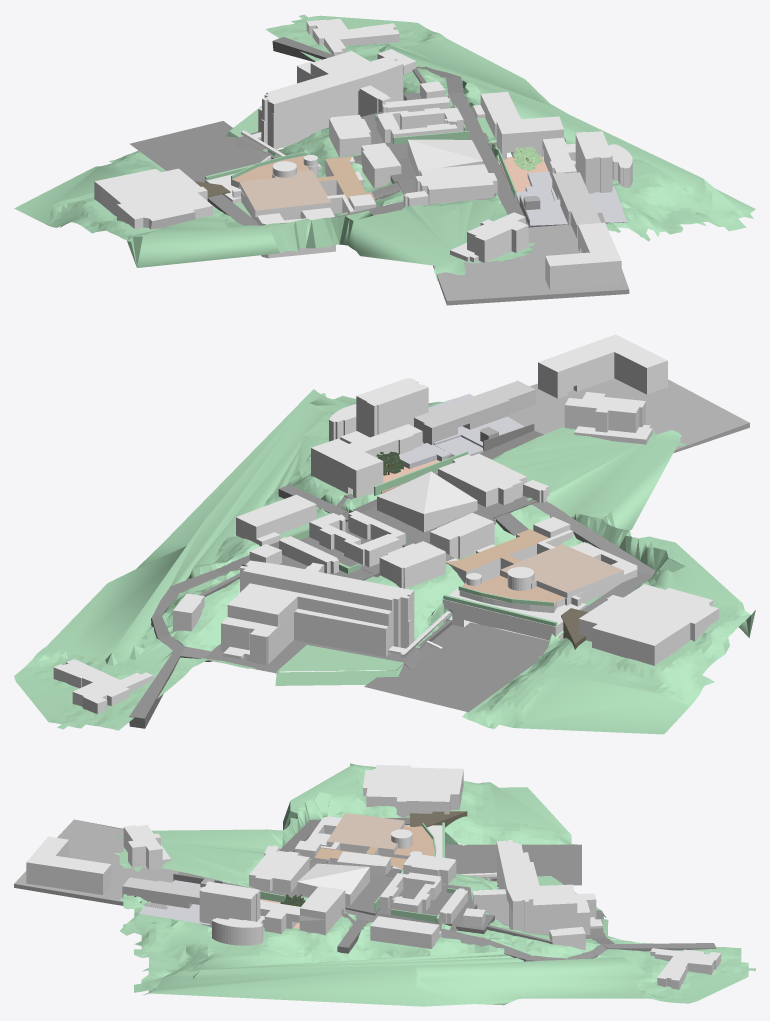
Rendered from wholeMap.glb.
The picture shows the model from 3 angles, top to bottom: view 1: azimuth 30°, elevation 25°; view 2: azimuth 150°, elevation 25°; view 3: azimuth 270°, elevation 25°; orthographic projection. The views are drawn at different scales.
Visible parts, largest first — view 1: object, 10号館, 9号館, 総合体育館, 駐車場, 1号館, 4号館, 5号館, 図書館別館, 6号館, 国際交流会館, 第1体育館 (+9 smaller); view 2: object, 10号館, 9号館, 駐車場, 総合体育館, 1号館, 4号館, 第1体育館, 2号館, 図書館別館, 6号館, 3号館 (+10 smaller); view 3: object, 10号館, 総合体育館, 9号館, 駐車場, 1号館, 4号館, 3号館, 5号館, 第1体育館, 6号館, 国際交流会館 (+10 smaller).
Boxes of the visible parts, box(x1,y1,x2,y2) form: object: box(14, 14, 755, 305); 10号館: box(241, 51, 403, 162); 9号館: box(204, 155, 335, 258); 総合体育館: box(94, 168, 212, 229); 駐車場: box(129, 121, 262, 182); 1号館: box(545, 222, 621, 289); 4号館: box(496, 116, 576, 179); 5号館: box(415, 164, 497, 204); 図書館別館: box(450, 212, 528, 262); 6号館: box(376, 107, 463, 143); 国際交流会館: box(306, 18, 399, 55); 第1体育館: box(407, 139, 483, 175); object: box(14, 378, 755, 734); 10号館: box(221, 560, 451, 664); 9号館: box(442, 542, 637, 640); 駐車場: box(364, 622, 549, 712); 総合体育館: box(578, 584, 718, 665); 1号館: box(538, 334, 667, 398); 4号館: box(311, 424, 422, 498); 第1体育館: box(377, 471, 477, 532); 2号館: box(414, 380, 535, 444); 図書館別館: box(564, 392, 652, 444); 6号館: box(309, 510, 405, 567); 3号館: box(356, 378, 428, 437); object: box(14, 763, 755, 1006); 10号館: box(460, 840, 602, 934); 総合体育館: box(363, 765, 463, 817); 9号館: box(306, 813, 442, 858); 駐車場: box(445, 844, 581, 885); 1号館: box(26, 836, 111, 894); 4号館: box(256, 886, 345, 935); 3号館: box(199, 881, 260, 927); 5号館: box(249, 850, 309, 893); 第1体育館: box(297, 863, 369, 905); 6号館: box(380, 872, 441, 913); 国際交流会館: box(650, 948, 721, 989).
Size of the model in its own units: 250 by 41.94 by 342.
